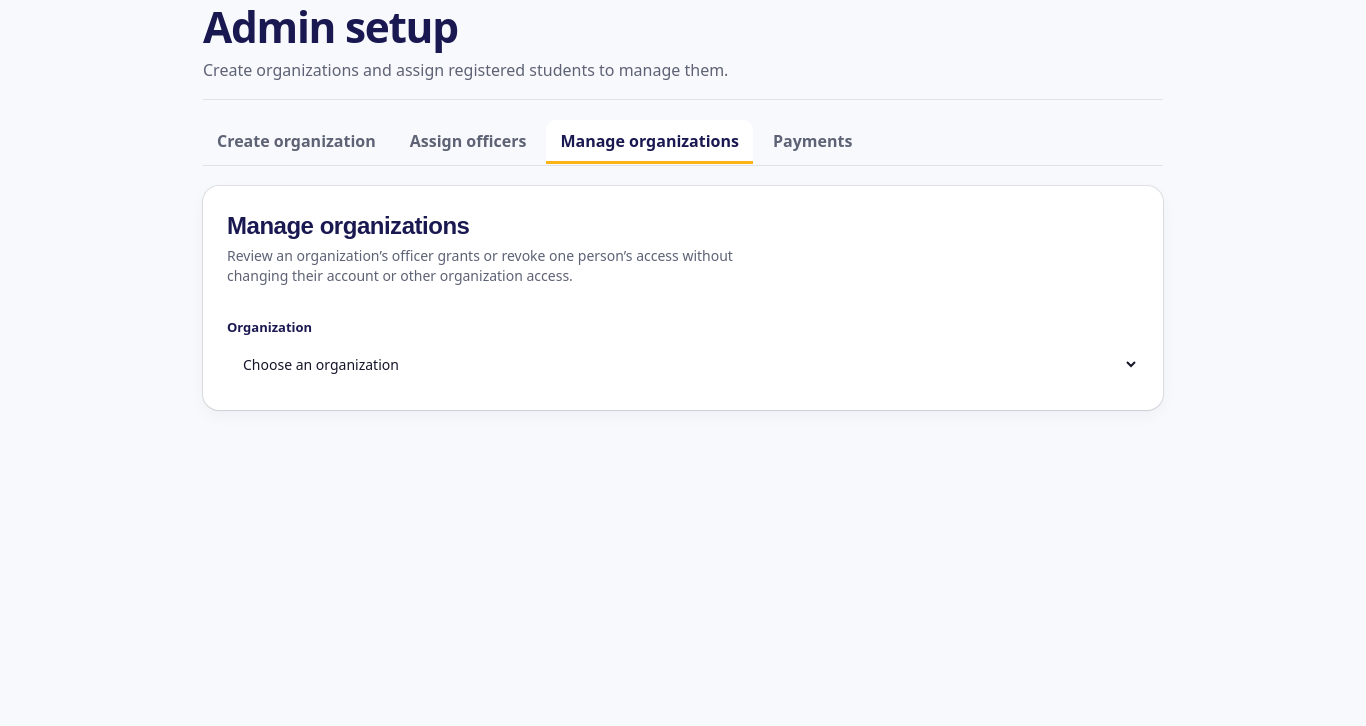
Admin provisioning page › requires a scoped destructive confirmation and then reports preserved accounts and unrelated data
This screenshot has width=1366, height=726.
Select "Robotics Club" in the dropdown labelled "Organization" at (683, 364), box [227,342,1139,386]
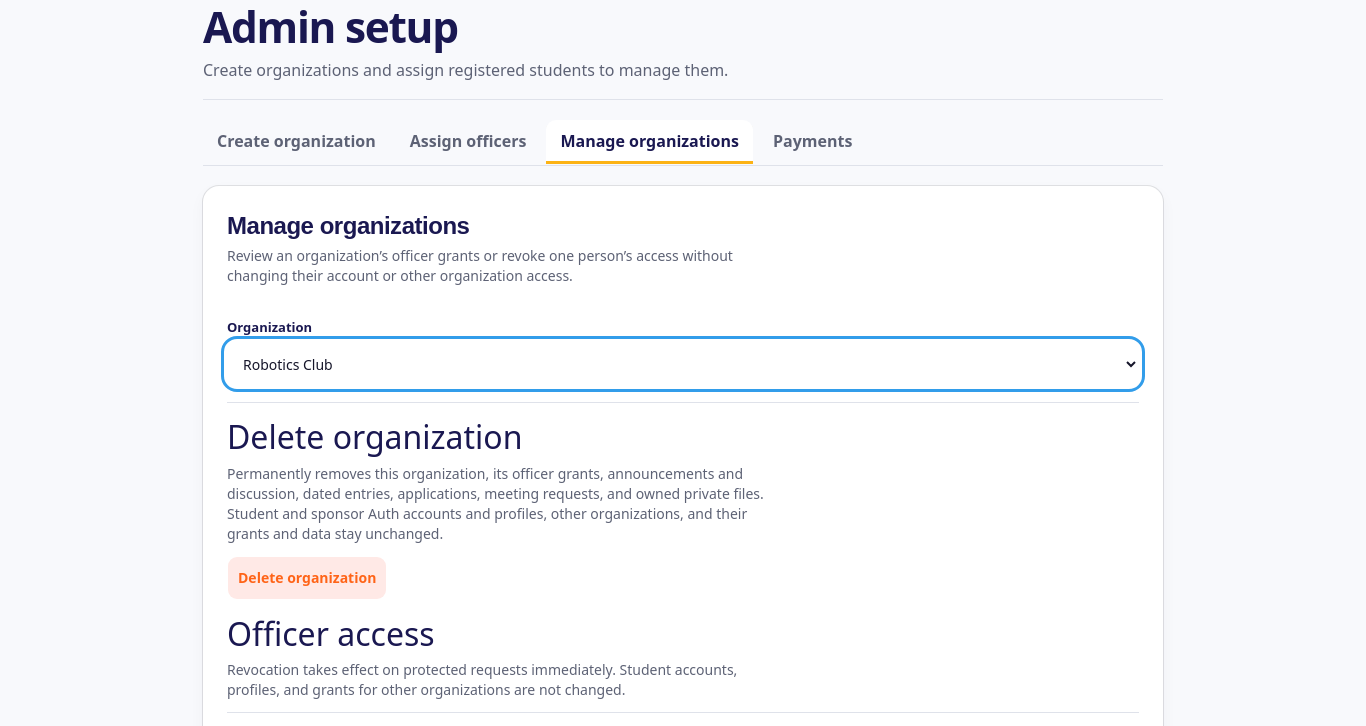
Click the button "Delete organization" at (307, 578), box [227,556,387,600]
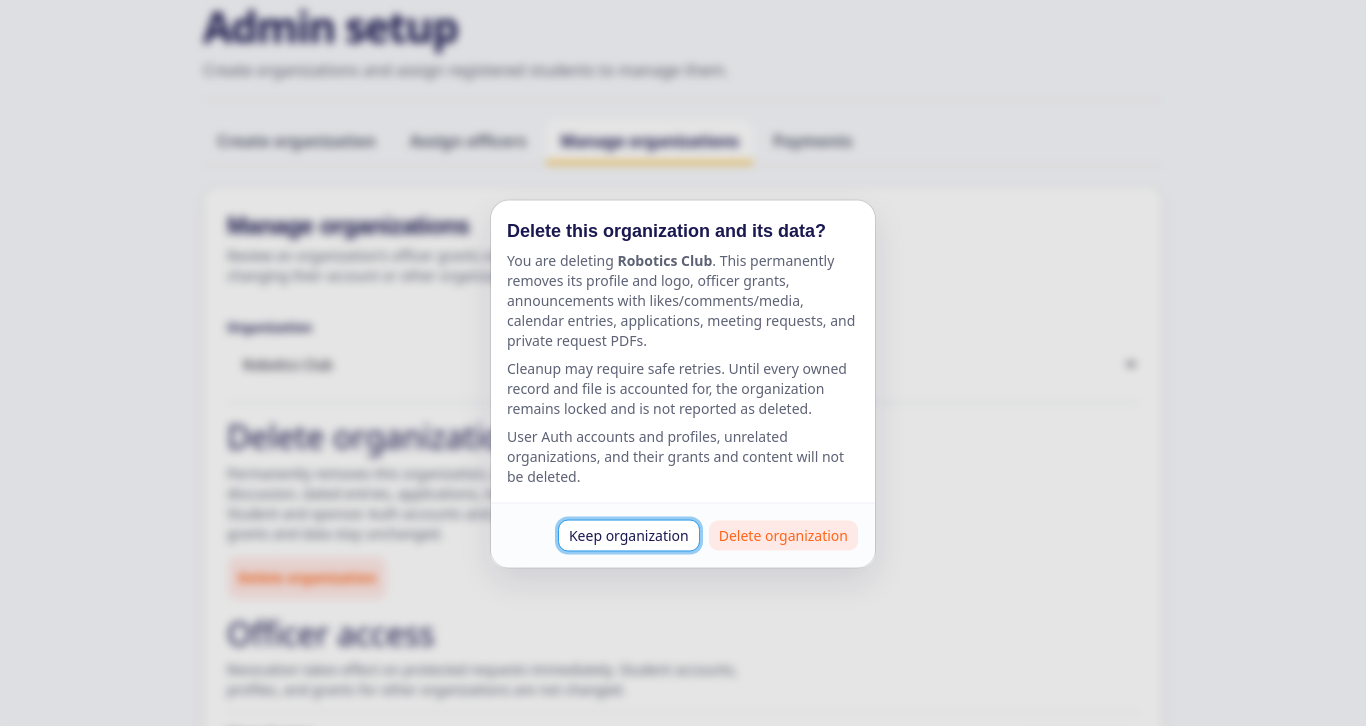
Result: the text "You are deleting" shows "Robotics Club" at [618,250,712,270]
Result: the text "User Auth accounts and profiles, unrelated organizations, and their grants and content will not be deleted" is shown at [507,426,844,486]
Click the button "Keep organization" at (629, 536), box [558,520,700,552]
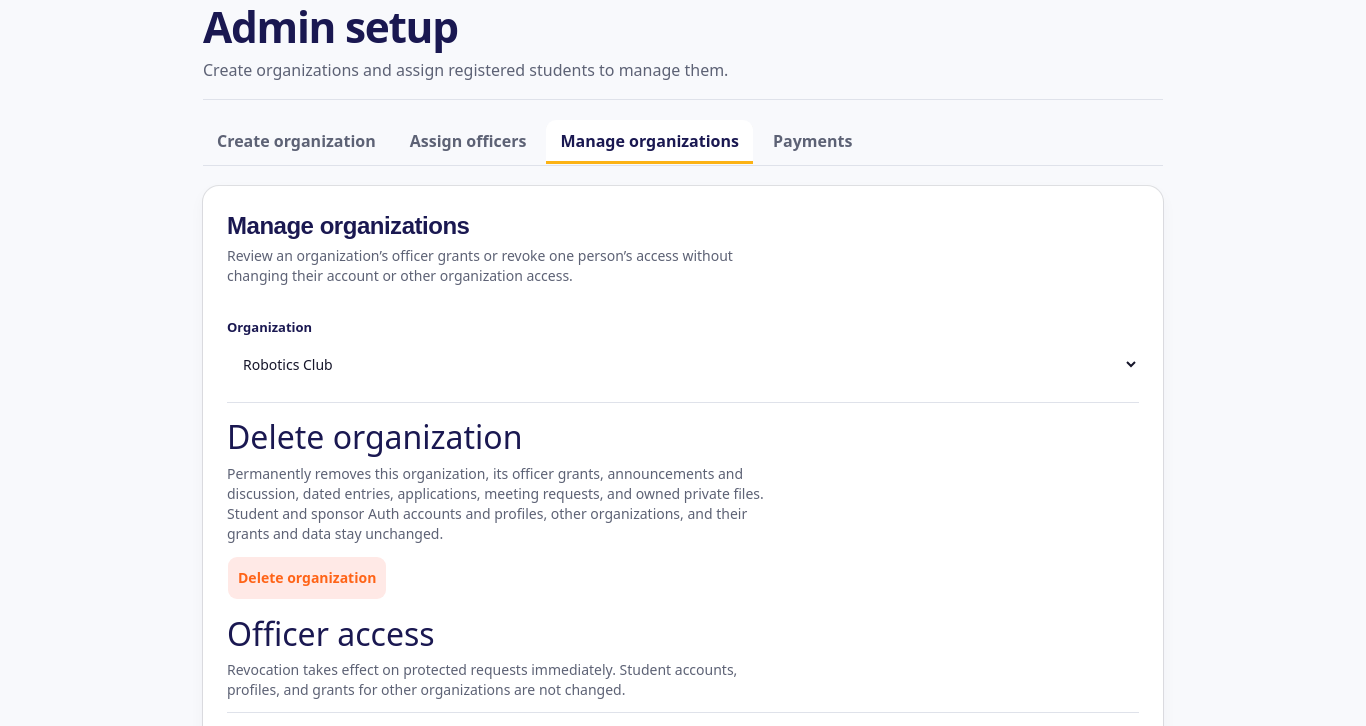
Click the button "Delete organization" at (307, 578), box [227,556,387,600]
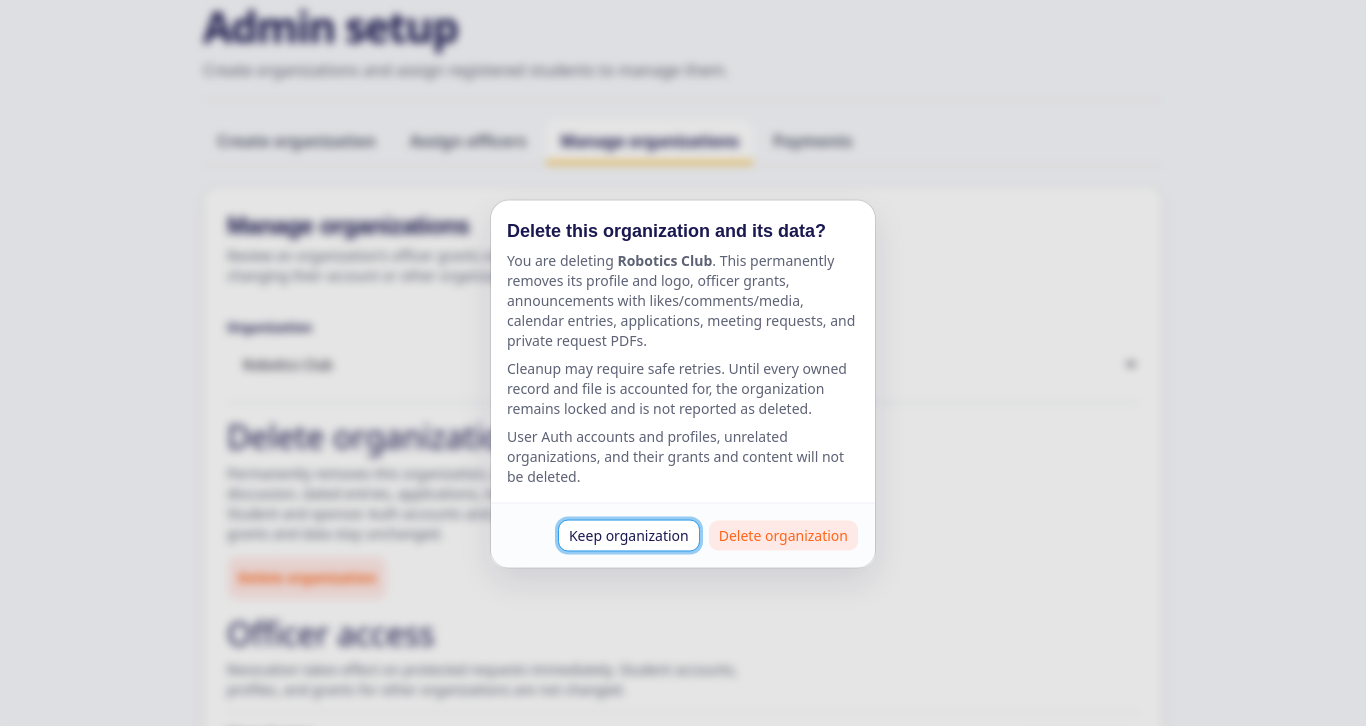
Click the button "Delete organization" at (783, 536), box [708,520,859,552]
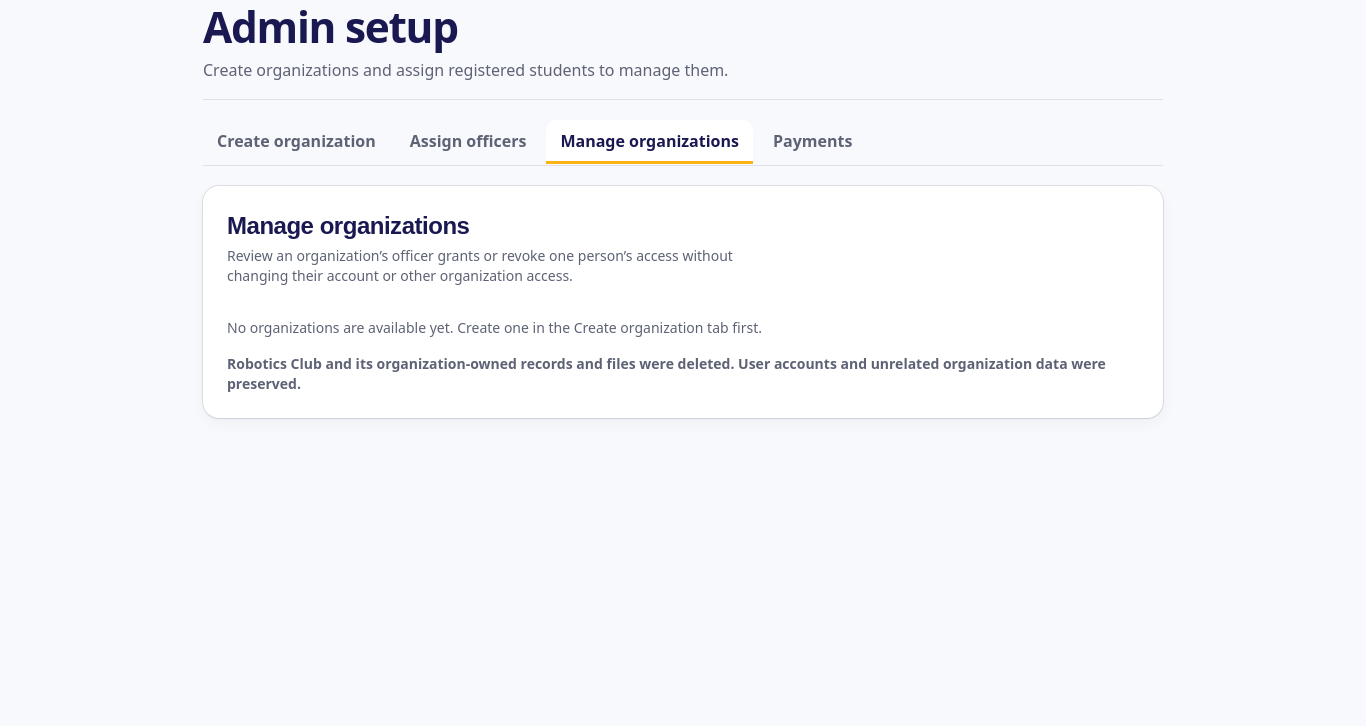
Result: the text "User accounts and unrelated organization data were preserved" is shown at [227,354,1106,393]
